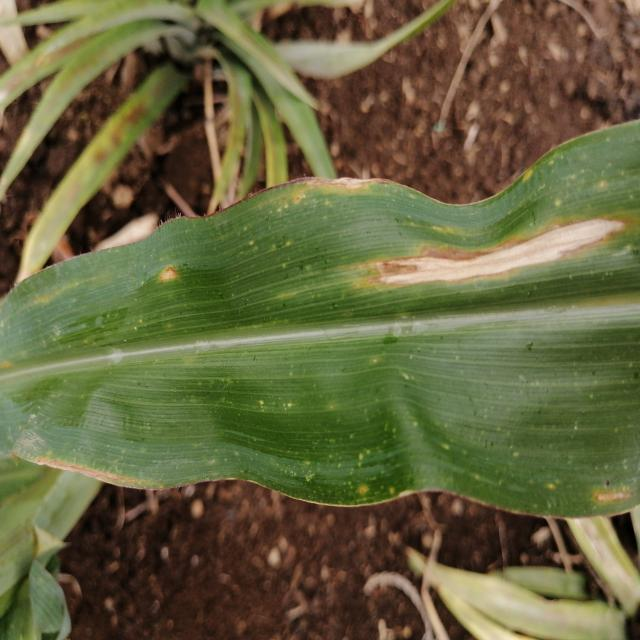Corn_Leaf_Blight: (0, 119, 640, 516)
